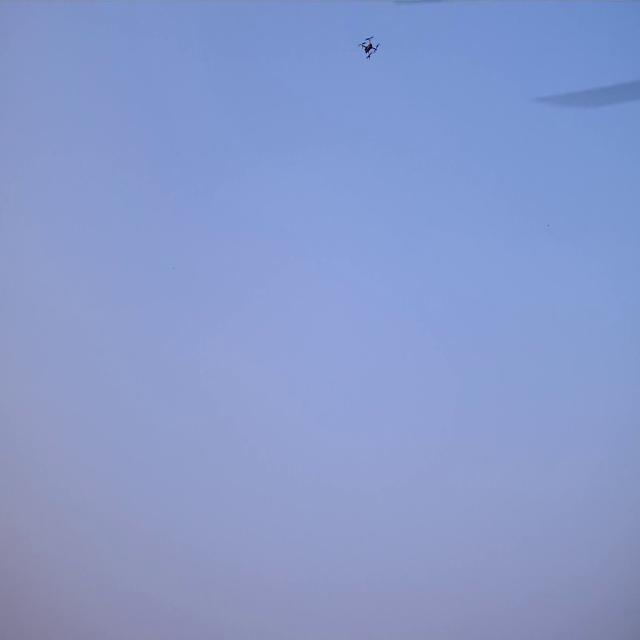UAV: (361, 38, 378, 58)
